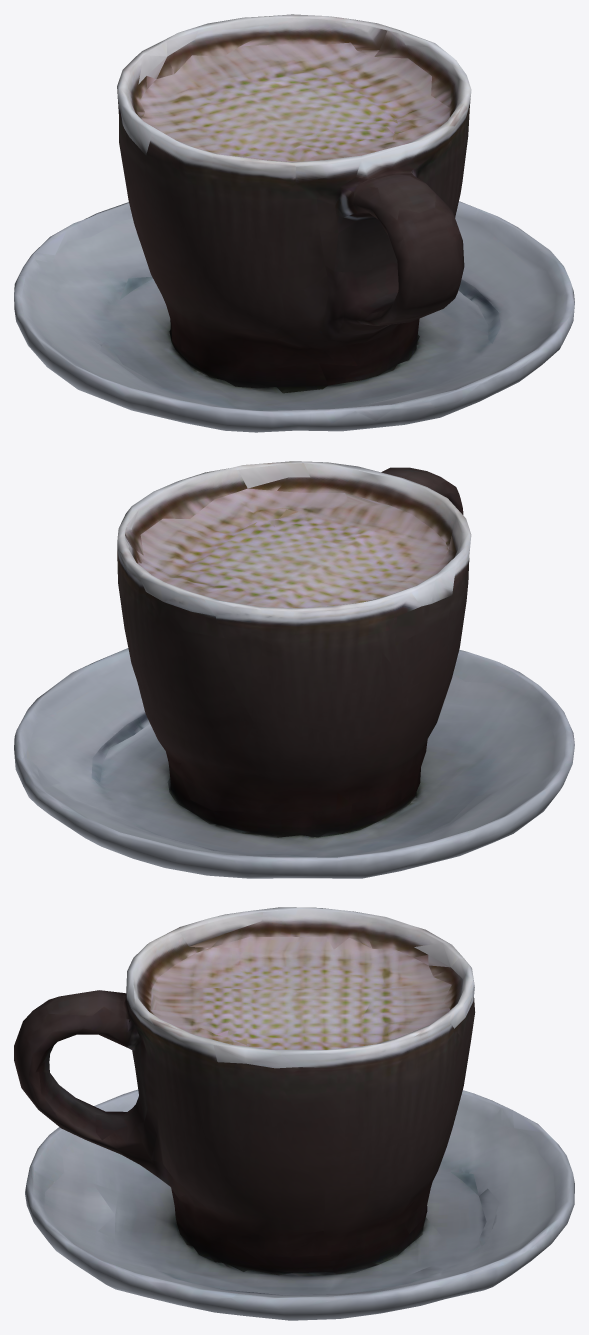
File: coffee moca.glb
The picture shows the model from 3 angles, top to bottom: view 1: azimuth 30°, elevation 25°; view 2: azimuth 150°, elevation 25°; view 3: azimuth 270°, elevation 25°; orthographic projection.
Visible parts, largest first — view 1: high_poly; view 2: high_poly; view 3: high_poly.
Part boxes in pixels (x1=…): high_poly: x1=14, y1=14, x2=574, y2=432; high_poly: x1=14, y1=461, x2=574, y2=878; high_poly: x1=14, y1=907, x2=574, y2=1320.
Size of the model in its own units: 0.9798 by 0.5183 by 0.9999.
1 material, 1 textured.
